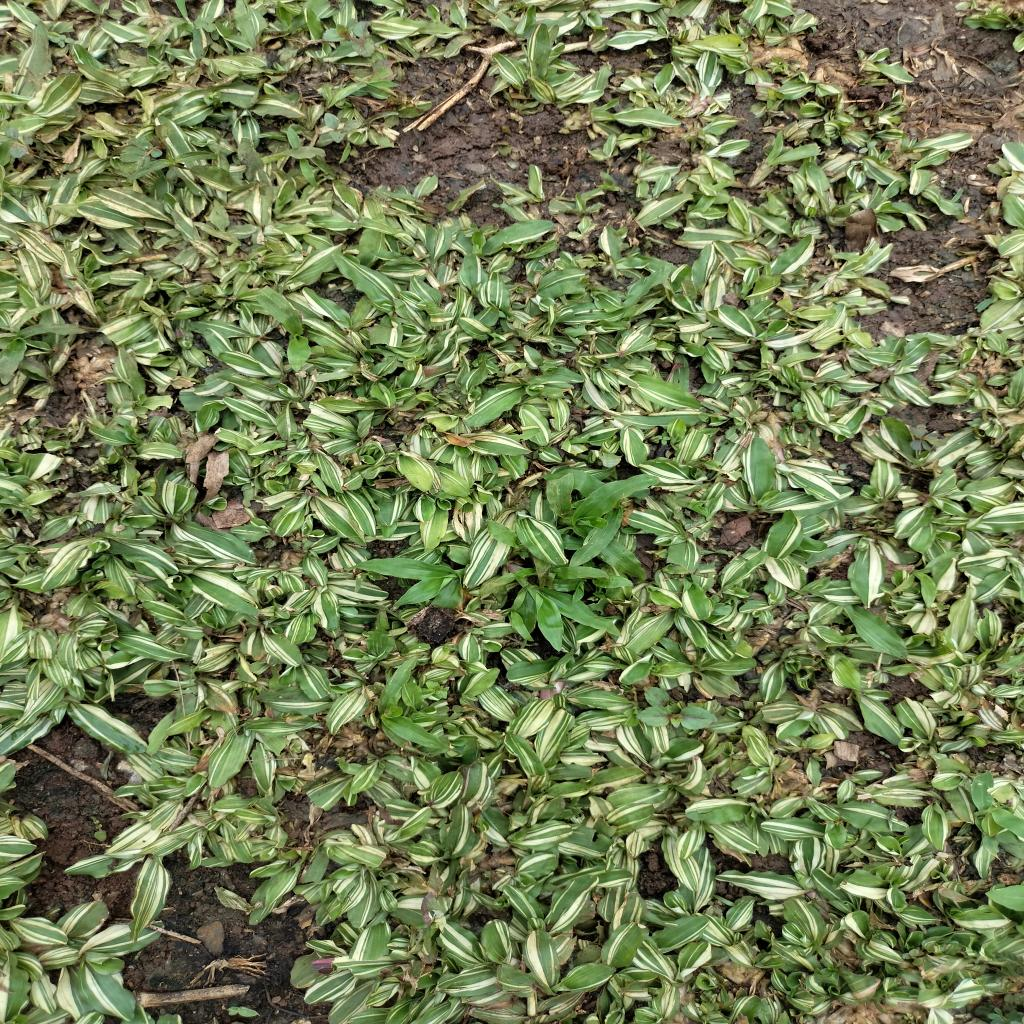bayi: (48, 34, 78, 49), (655, 430, 672, 446), (829, 461, 847, 476), (490, 202, 508, 210)
buah daun: (112, 124, 175, 171), (906, 422, 949, 455)
clover: (192, 16, 222, 34)
rambat atas: (970, 768, 1024, 840), (326, 66, 400, 113), (286, 124, 320, 190), (336, 141, 352, 165)
rambat bawah: (540, 469, 664, 582), (490, 559, 624, 650), (374, 652, 463, 760), (342, 555, 465, 613), (0, 322, 94, 386), (252, 280, 312, 374), (744, 128, 826, 196), (890, 550, 975, 614)
ungu tunggang: (634, 683, 720, 737), (320, 20, 382, 60)
